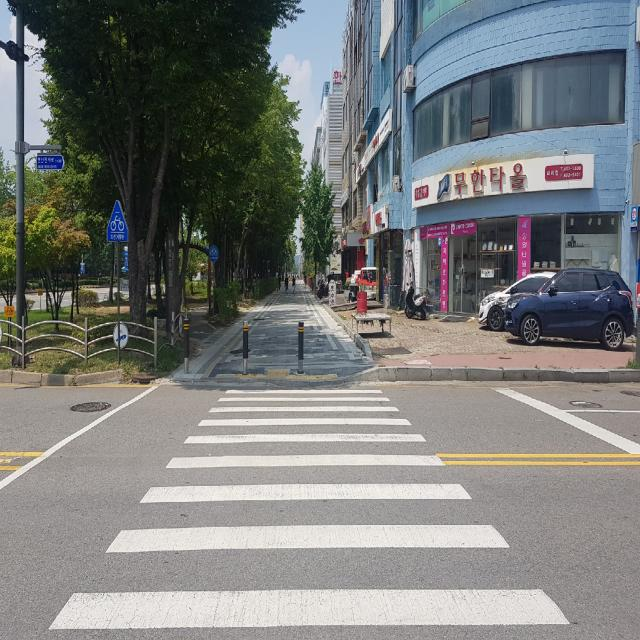횡단보도: (49, 388, 570, 630)
